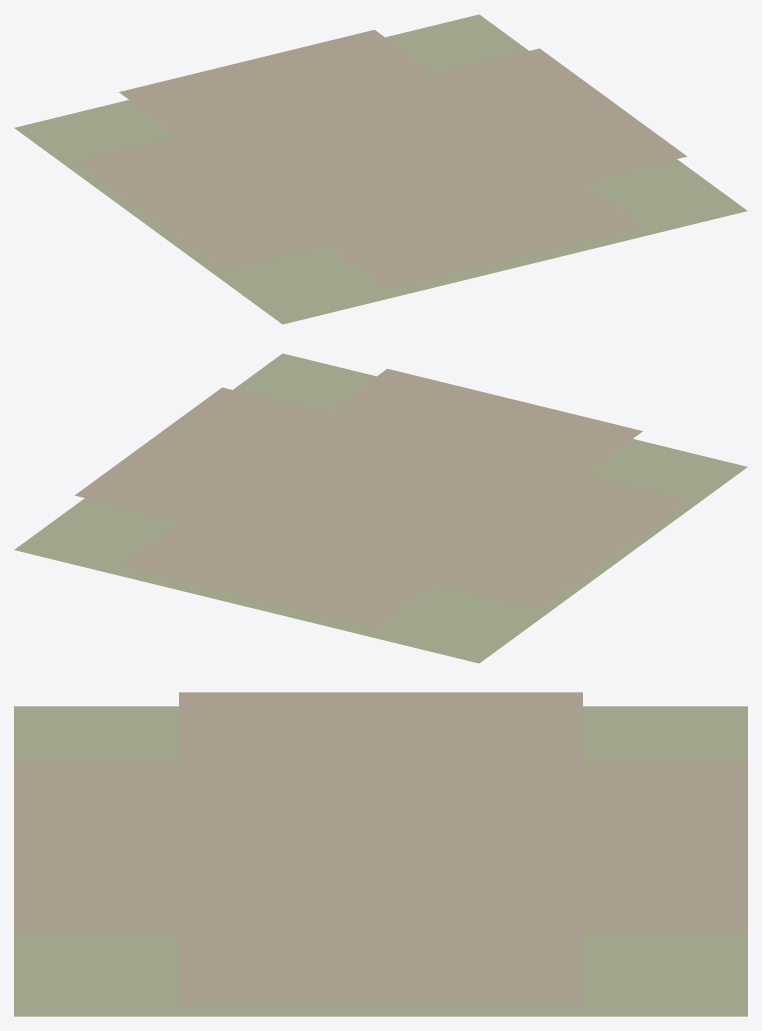
3 views of the same model, one above another, from view 1: azimuth 30°, elevation 25°; view 2: azimuth 150°, elevation 25°; view 3: azimuth 270°, elevation 25° (orthographic). The views are drawn at different scales.
Visible parts, largest first — view 1: Near; view 2: Near; view 3: Near.
Part boxes in pixels (bbox=[...]): Near: bbox=[14, 14, 747, 324]; Near: bbox=[14, 353, 747, 663]; Near: bbox=[14, 692, 747, 1016].
Bounding box in the file's own units: 1 × 0.021 × 1.
